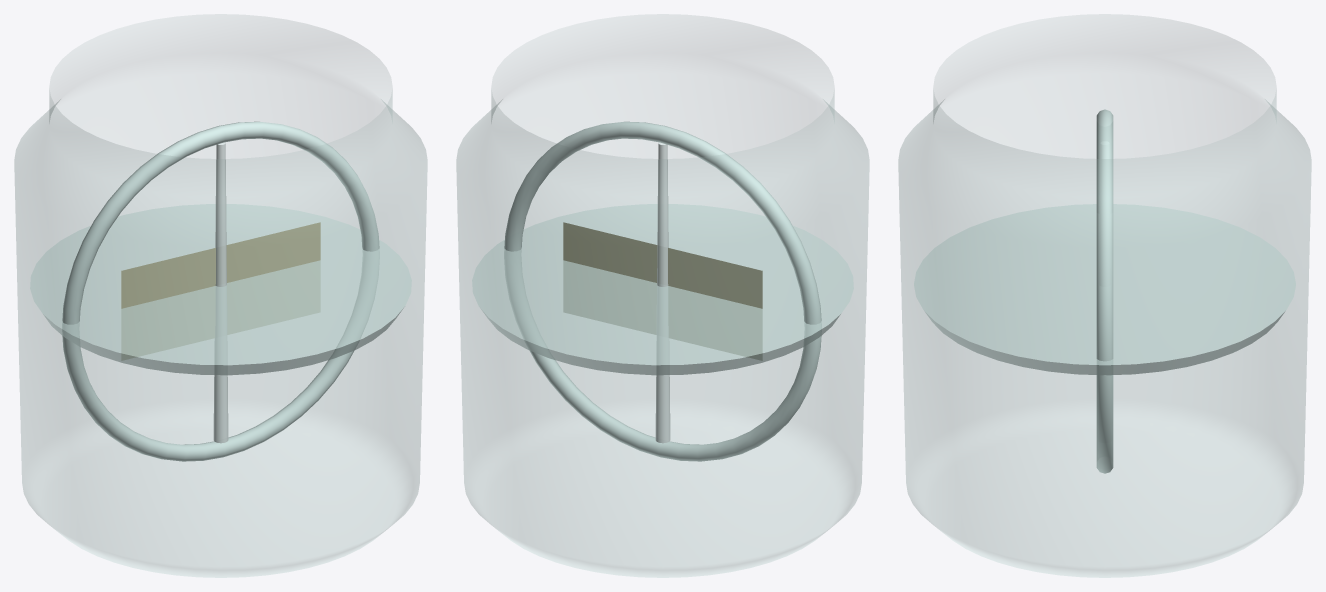
File: tip-jar.glb
3 renders of one model, left to right at view 1: azimuth 30°, elevation 25°; view 2: azimuth 150°, elevation 25°; view 3: azimuth 270°, elevation 25°, orthographic.
Visible parts, largest first — view 1: tip-jar, Group; view 2: tip-jar, Group; view 3: tip-jar.
Boxes of the visible parts, x1,y1,x2,y2 form: tip-jar: (14, 14, 427, 577); Group: (121, 222, 320, 360); tip-jar: (456, 14, 869, 577); Group: (563, 222, 762, 360); tip-jar: (898, 14, 1311, 577).
Bounding box in the file's own units: 2.12 × 2.36 × 2.12.
